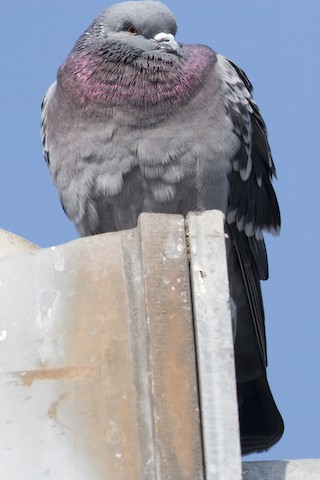pigeon: (37, 5, 291, 459)
